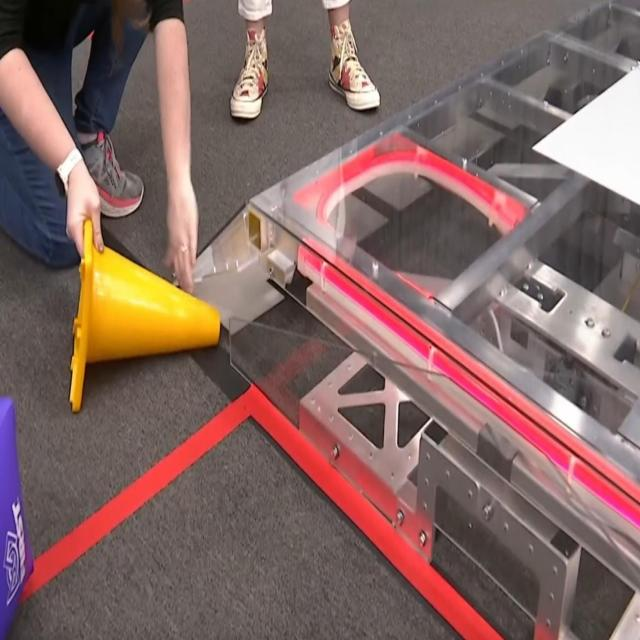frc_cone: (68, 210, 225, 418)
frc_cube: (0, 391, 33, 640)
